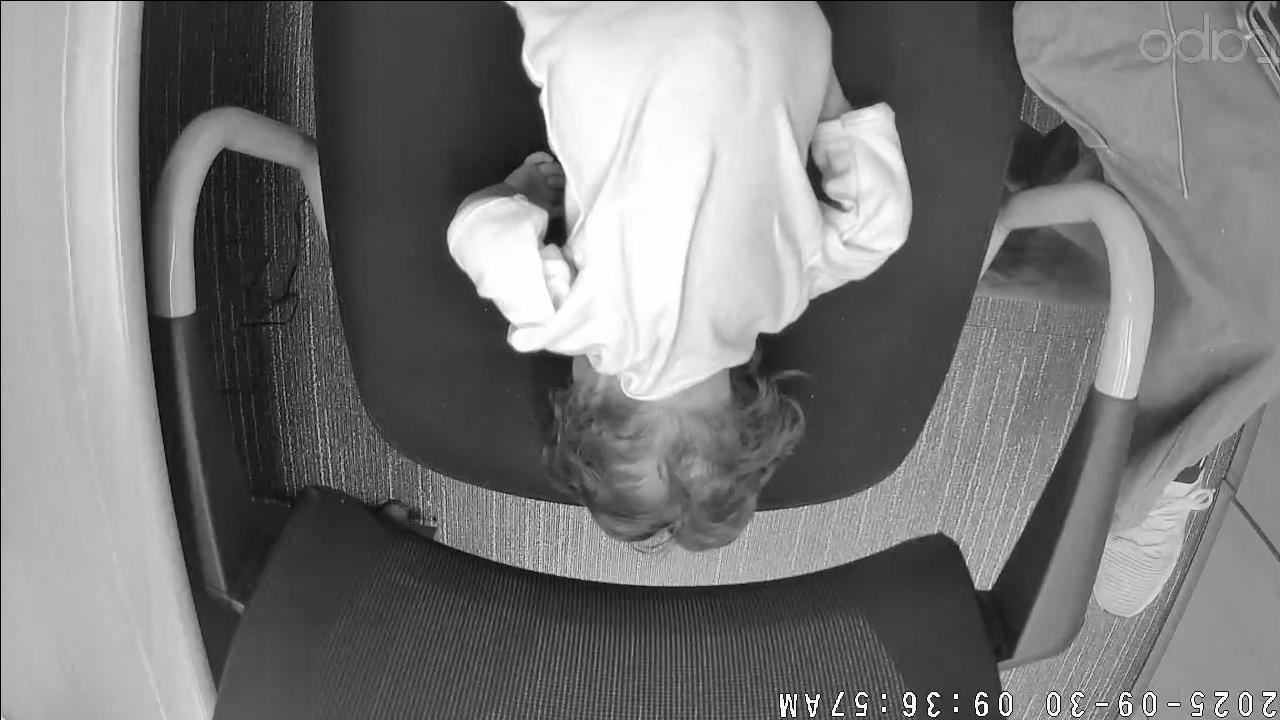hand: (500, 151, 561, 213)
